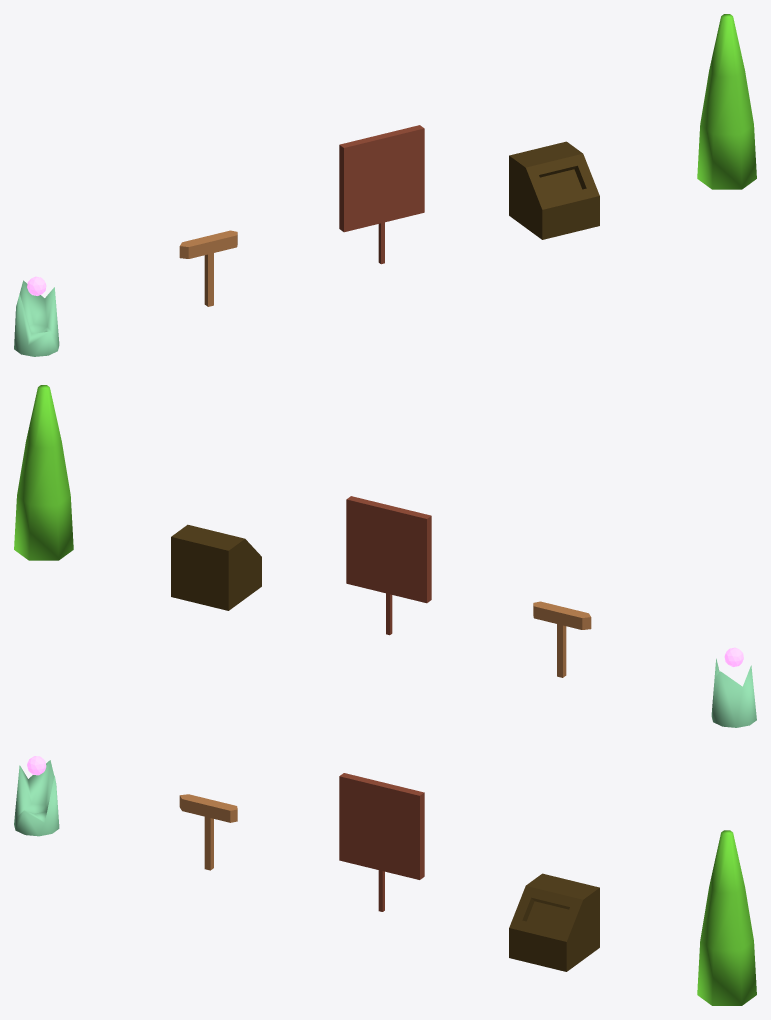
Rendered from roma items.glb.
The picture shows the model from 3 angles, top to bottom: view 1: azimuth 30°, elevation 25°; view 2: azimuth 150°, elevation 25°; view 3: azimuth 330°, elevation 25°; orthographic projection.
Visible parts, largest first — view 1: Cube.001, Cylinder, Cube.002, Icosphere, Cube; view 2: Cube.001, Cylinder, Cube.002, Icosphere, Cube; view 3: Cube.001, Cylinder, Cube.002, Icosphere, Cube.
Boxes of the visible parts, x1,y1,x2,y2 form: Cube.001: (339, 125, 424, 264); Cylinder: (697, 14, 756, 189); Cube.002: (509, 141, 599, 239); Icosphere: (14, 280, 59, 356); Cube: (179, 230, 237, 306); Cube.001: (346, 496, 431, 635); Cylinder: (14, 385, 73, 560); Cube.002: (171, 524, 261, 610); Icosphere: (711, 658, 756, 727); Cube: (533, 601, 591, 677); Cube.001: (339, 773, 424, 911); Cylinder: (697, 830, 756, 1005); Cube.002: (509, 873, 599, 971); Icosphere: (14, 760, 59, 836); Cube: (179, 794, 237, 870).
Bounding box in the file's own units: 12.72 × 2.7 × 1.
